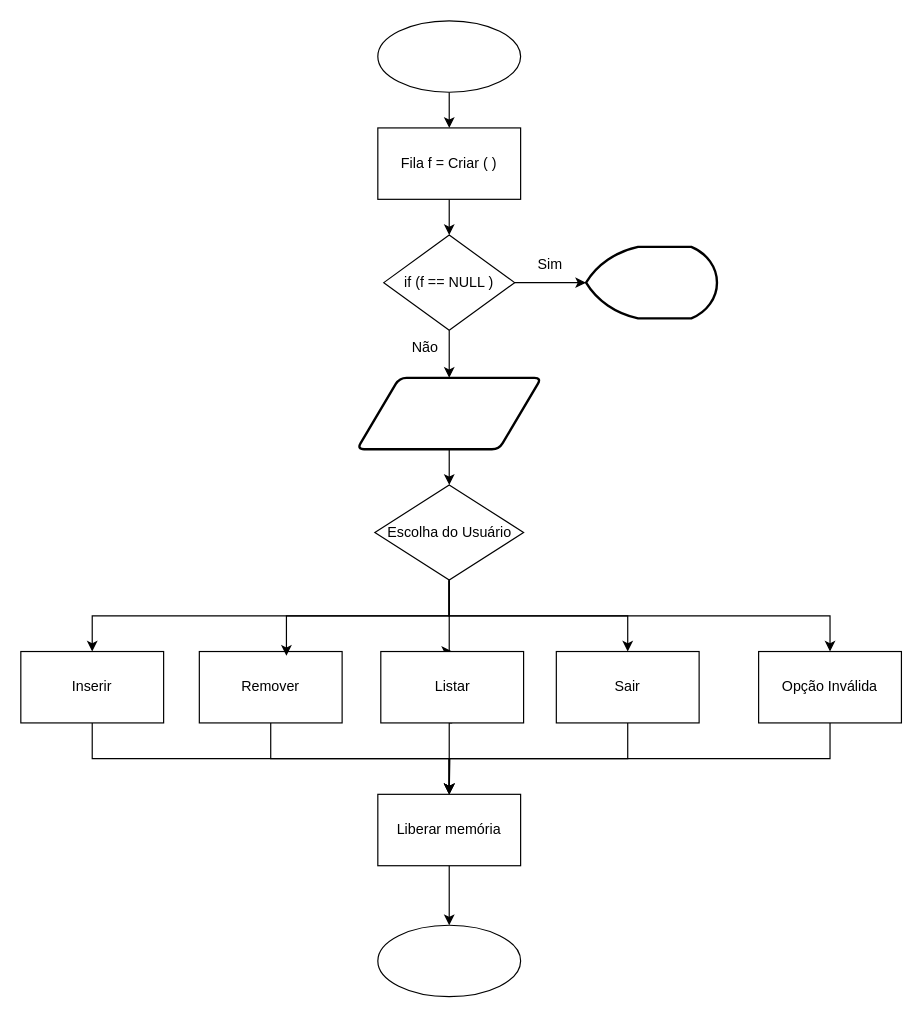
This 922x1017 diagram has some shape labels left out. Here are the shapes that lost their labels. From the top down, the centre of each, then its label:
At point 449,56: "Início".
At point 651,282: "Erro de memória".
At point 448,413: "1 - Inserir 2 - Remover 3 - Listar fila 0 - Sair".
At point 449,960: "Fim".
